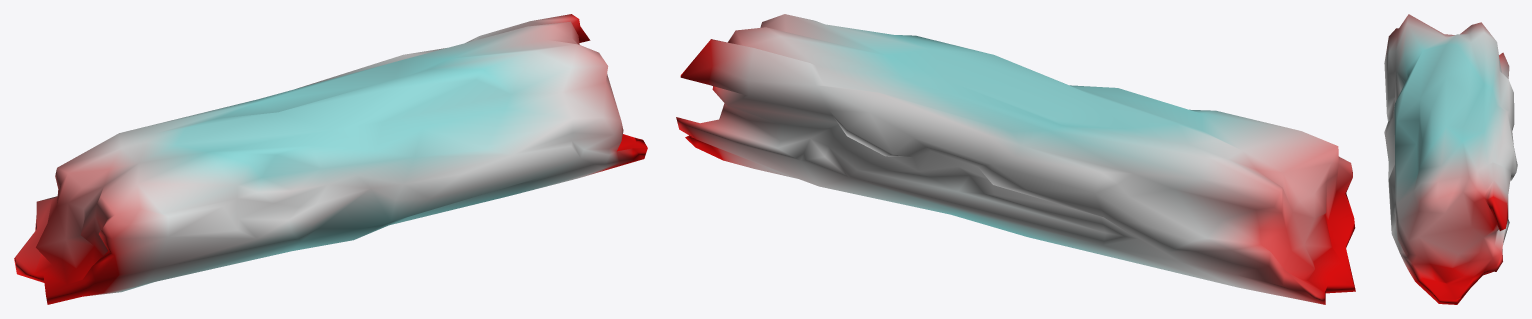
File: Dead Log Large.fbx
3 views of the same model, side by side, from view 1: azimuth 30°, elevation 25°; view 2: azimuth 150°, elevation 25°; view 3: azimuth 270°, elevation 25° (orthographic). The views are drawn at different scales.
Parts seen in each view (by area): view 1: Dead_Log_Large; view 2: Dead_Log_Large; view 3: Dead_Log_Large.
Part boxes in pixels (bbox=[...]): Dead_Log_Large: bbox=[14, 14, 647, 304]; Dead_Log_Large: bbox=[676, 14, 1355, 304]; Dead_Log_Large: bbox=[1384, 14, 1517, 304].
Bounding box in the file's own units: 634 × 139 × 161.
